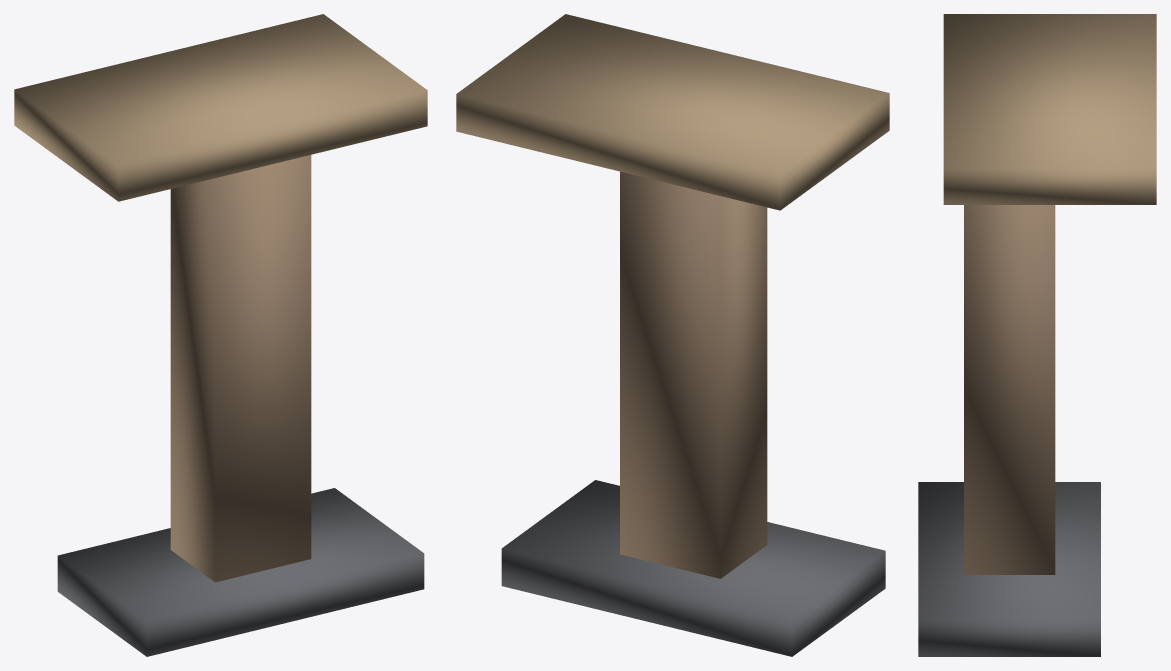
Rendered from lectern__wide.glb.
3 views of the same model, side by side, from view 1: azimuth 30°, elevation 25°; view 2: azimuth 150°, elevation 25°; view 3: azimuth 270°, elevation 25° (orthographic). The views are drawn at different scales.
Parts seen in each view (by area): view 1: world; view 2: world; view 3: world.
Boxes of the visible parts, bbox=[...] form: world: bbox=[14, 14, 427, 656]; world: bbox=[456, 14, 889, 656]; world: bbox=[918, 14, 1156, 656].
Bounding box in the file's own units: 0.7192 × 1.08 × 0.47.
